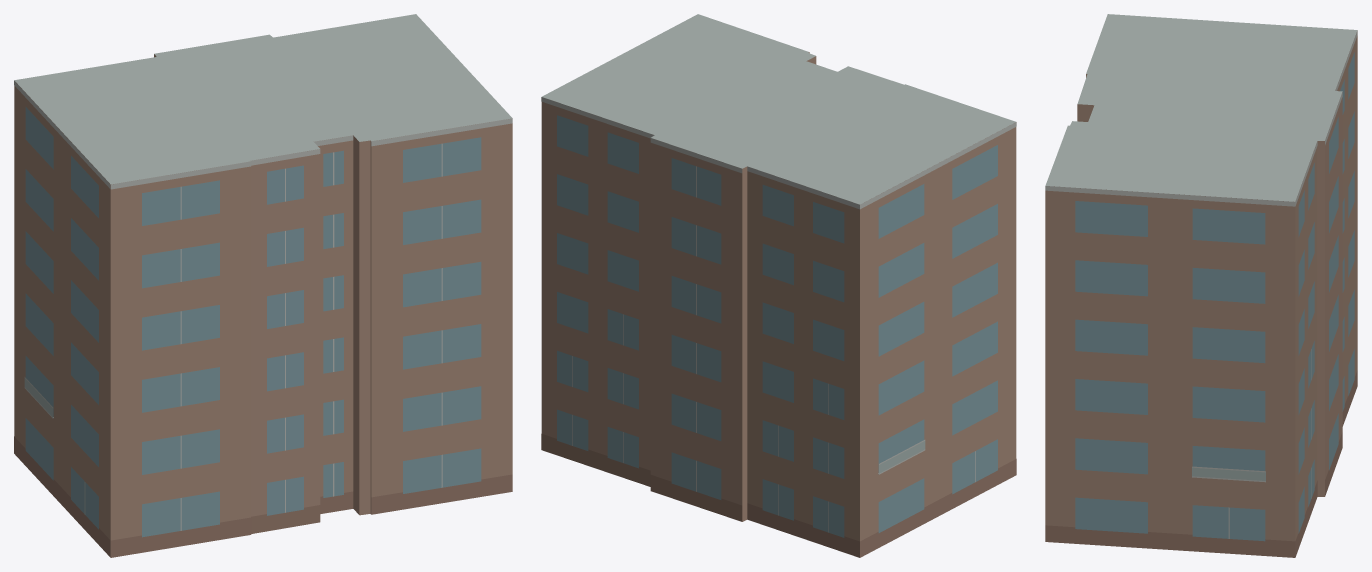
The model's file is survey-upis-32919576.glb.
3 renders of one model, left to right at view 1: azimuth 30°, elevation 25°; view 2: azimuth 150°, elevation 25°; view 3: azimuth 270°, elevation 25°, orthographic. The views are drawn at different scales.
Visible parts, largest first — view 1: survey-upis-32919576.tmp; view 2: survey-upis-32919576.tmp; view 3: survey-upis-32919576.tmp.
Boxes of the visible parts, bbox=[...] form: survey-upis-32919576.tmp: bbox=[14, 14, 512, 557]; survey-upis-32919576.tmp: bbox=[541, 14, 1016, 557]; survey-upis-32919576.tmp: bbox=[1045, 14, 1357, 557].
Size of the model in its own units: 20.49 by 18.1 by 14.4.
